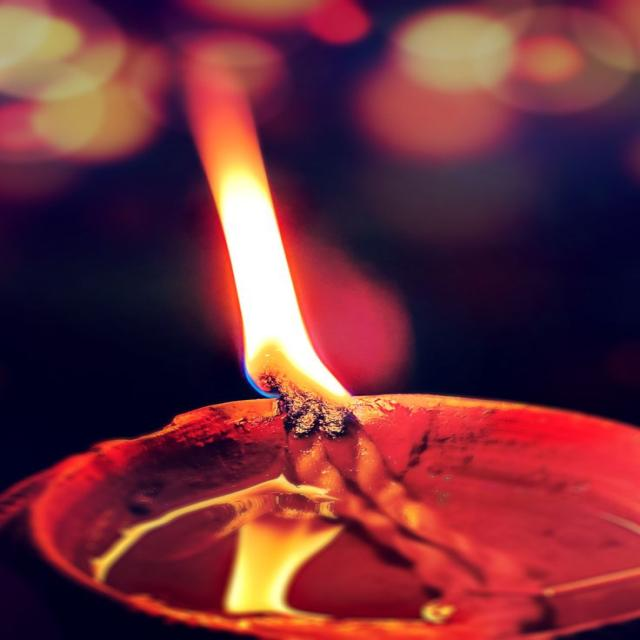fire: (212, 148, 352, 401)
